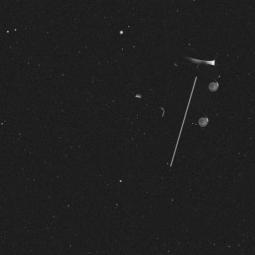proba_3_csc: (126, 39, 236, 176)
